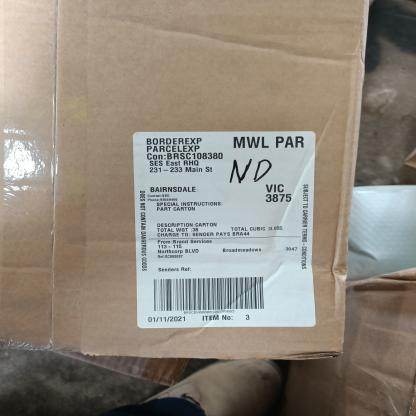label: (125, 127, 346, 338)
package: (0, 0, 371, 366)
